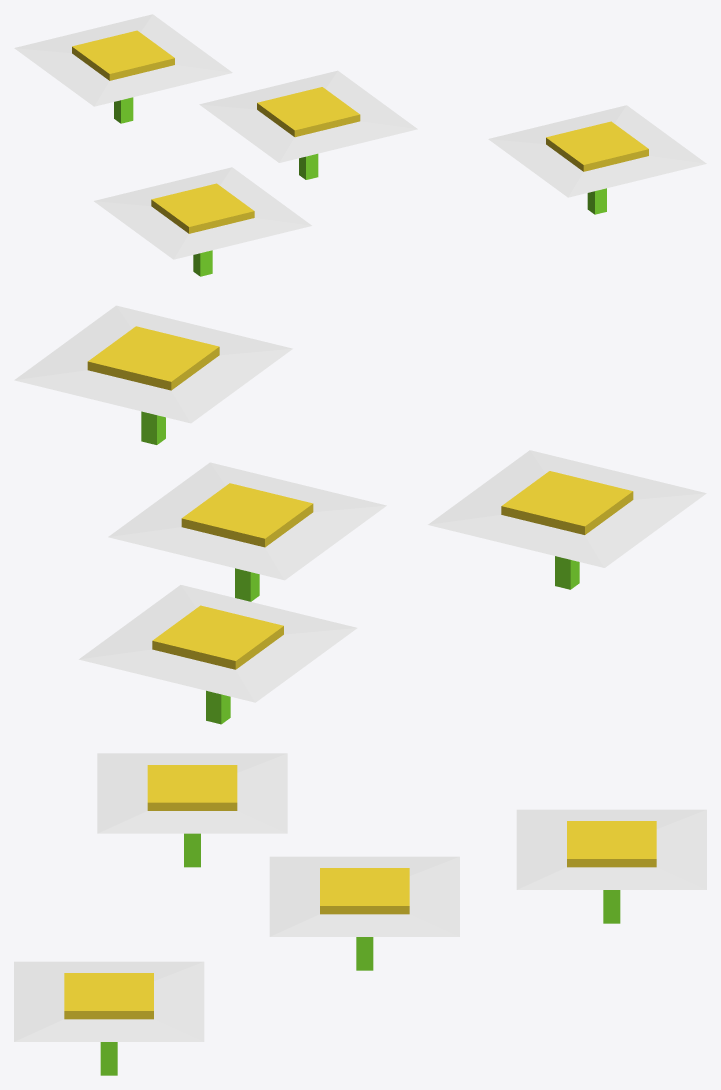
The model's file is Flower_White.fbx.
The picture shows the model from 3 angles, top to bottom: view 1: azimuth 30°, elevation 25°; view 2: azimuth 150°, elevation 25°; view 3: azimuth 270°, elevation 25°; orthographic projection. The views are drawn at different scales.
Visible parts, largest first — view 1: Cube.003, Cube, Cube.001, Cube.002; view 2: Cube.001, Cube, Cube.002, Cube.003; view 3: Cube, Cube.001, Cube.003, Cube.002.
Boxes of the visible parts, bbox=[...] form: Cube.003: bbox=[14, 14, 232, 123]; Cube: bbox=[199, 70, 417, 179]; Cube.001: bbox=[488, 105, 706, 214]; Cube.002: bbox=[94, 167, 311, 276]; Cube.001: bbox=[14, 305, 292, 444]; Cube: bbox=[108, 462, 386, 601]; Cube.002: bbox=[428, 450, 706, 589]; Cube.003: bbox=[79, 585, 357, 724]; Cube: bbox=[269, 856, 459, 970]; Cube.001: bbox=[14, 961, 204, 1075]; Cube.003: bbox=[516, 809, 706, 923]; Cube.002: bbox=[97, 753, 287, 867].
Bounding box in the file's own units: 0.9192 × 0.1189 × 0.9326.
